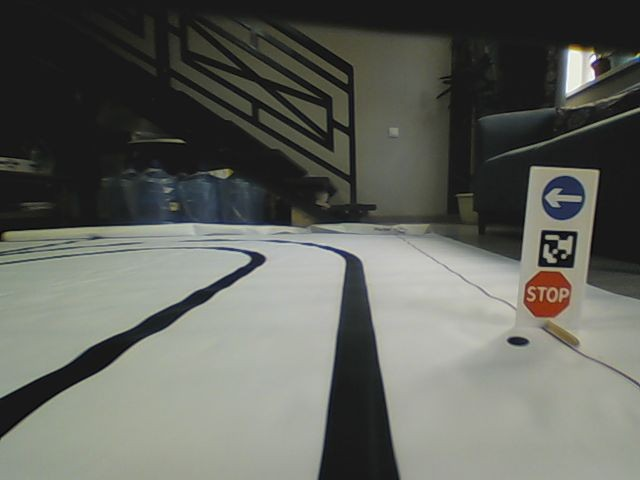Stop: (520, 269, 573, 319)
